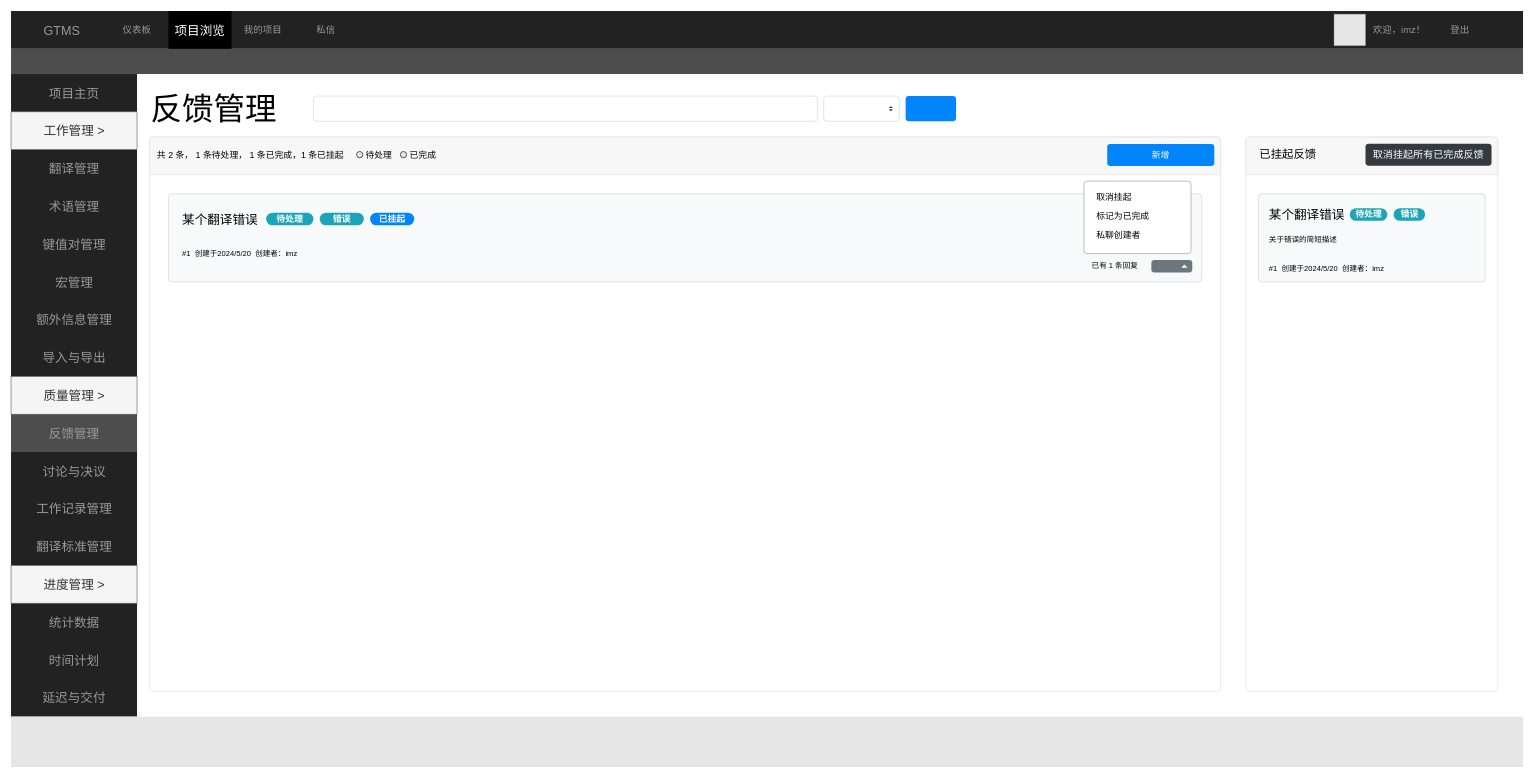
The diagram is 1534 pixels wide and 777 high, and some of its shapes have lost their labels. Grey dashed boxes stand in for pictures. The centre of each missing label's shape, as x and y in pixels:
"Yifan Xu 毕业设计 @天津工业大学" belongs at (x=767, y=741).
"所有反馈" belongs at (x=861, y=108).
"搜索" belongs at (x=930, y=108).
"操作" belongs at (x=1171, y=266).
"示例中文化项目01 / 反馈管理" belongs at (x=767, y=61).
